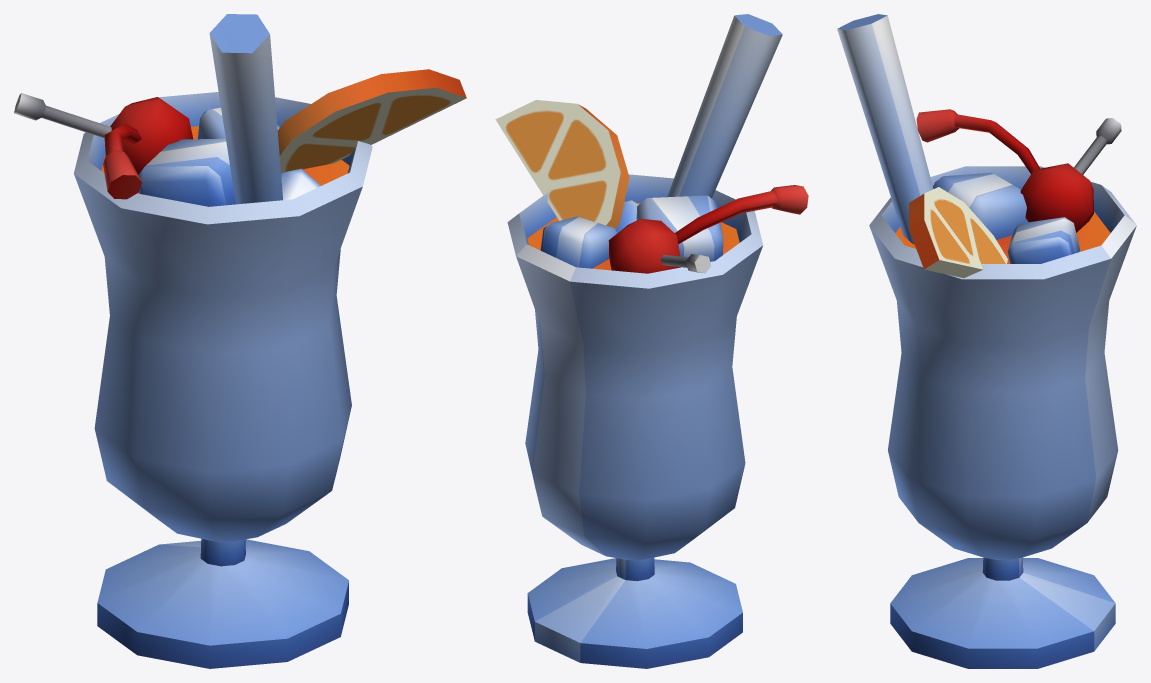
The model's file is m_SexOnTheBeach01.fbx.
3 views of the same model, side by side, from view 1: azimuth 30°, elevation 25°; view 2: azimuth 150°, elevation 25°; view 3: azimuth 270°, elevation 25° (orthographic). The views are drawn at different scales.
Visible parts, largest first — view 1: m_SexOnTheBeach01; view 2: m_SexOnTheBeach01; view 3: m_SexOnTheBeach01.
Boxes of the visible parts, x1,y1,x2,y2 form: m_SexOnTheBeach01: (14, 14, 466, 668); m_SexOnTheBeach01: (495, 14, 808, 668); m_SexOnTheBeach01: (837, 14, 1136, 668).
Size of the model in its own units: 16.08 by 28.52 by 13.3.
